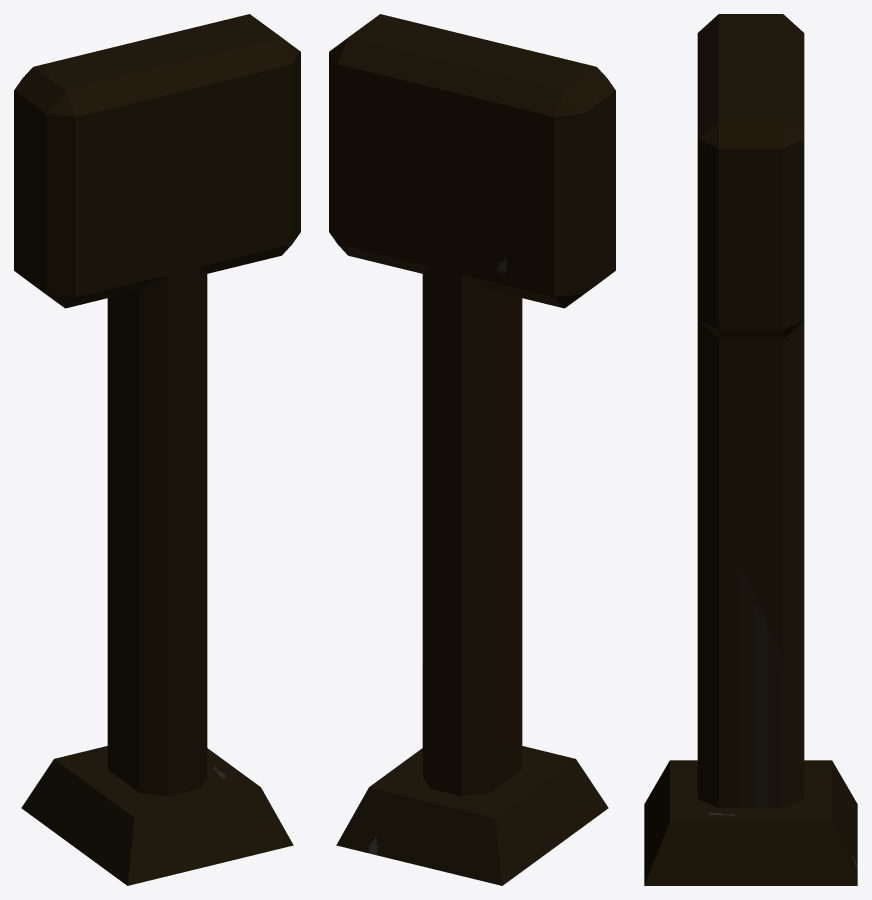
The model's file is Terminal.fbx.
The picture shows the model from 3 angles, left to right: view 1: azimuth 30°, elevation 25°; view 2: azimuth 150°, elevation 25°; view 3: azimuth 270°, elevation 25°; orthographic projection.
Visible parts, largest first — view 1: pCube41; view 2: pCube41; view 3: pCube41.
Part boxes in pixels (x1=…): pCube41: x1=14, y1=14, x2=300, y2=885; pCube41: x1=329, y1=14, x2=615, y2=885; pCube41: x1=644, y1=14, x2=857, y2=885.
Bounding box in the file's own units: 125 × 364 × 90.65.
Materials: 1 (1 with a texture image).
